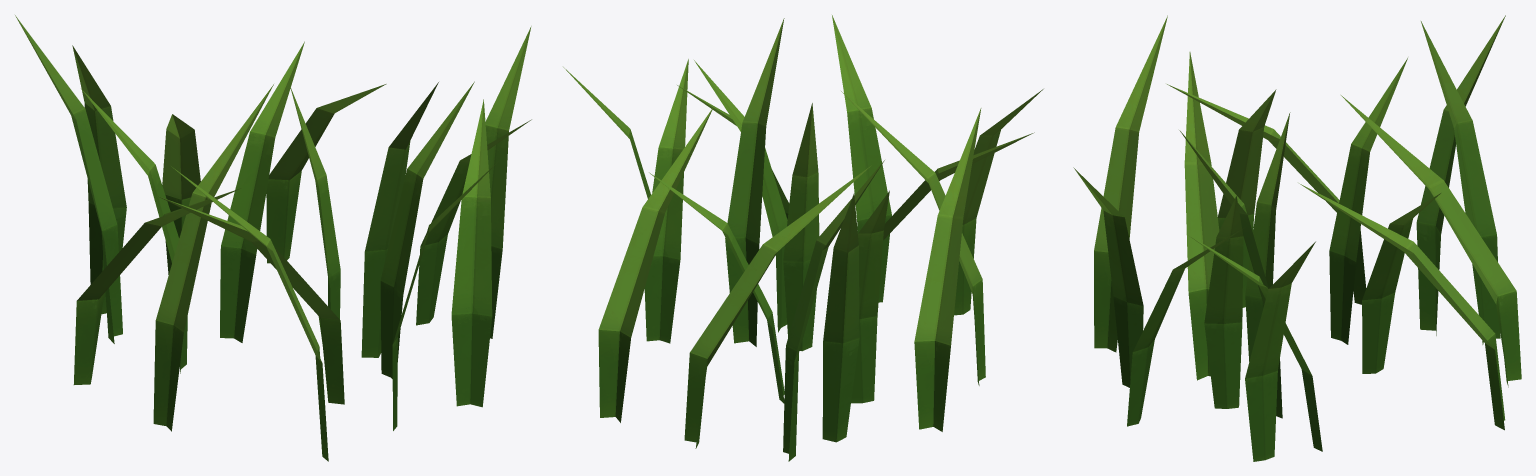
File: GrassLarge2.fbx
3 views of the same model, side by side, from view 1: azimuth 30°, elevation 25°; view 2: azimuth 150°, elevation 25°; view 3: azimuth 270°, elevation 25° (orthographic). The views are drawn at different scales.
Parts seen in each view (by area): view 1: GrassLarge2; view 2: GrassLarge2; view 3: GrassLarge2.
Part boxes in pixels (x1,y1,x2,y2): GrassLarge2: (15,15,531,461); GrassLarge2: (563,15,1043,461); GrassLarge2: (1073,15,1521,461).
Size of the model in its own units: 0.9104 by 0.6096 by 0.8519.
1 material, 1 textured.
